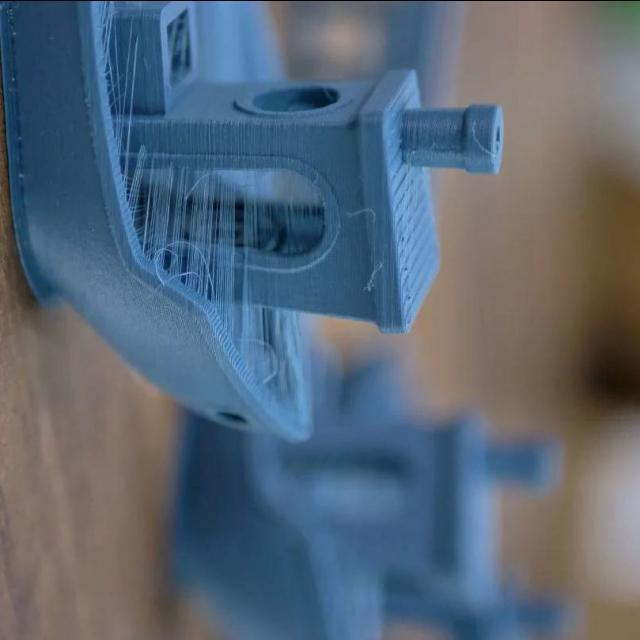Stringing: (130, 143, 314, 422)
